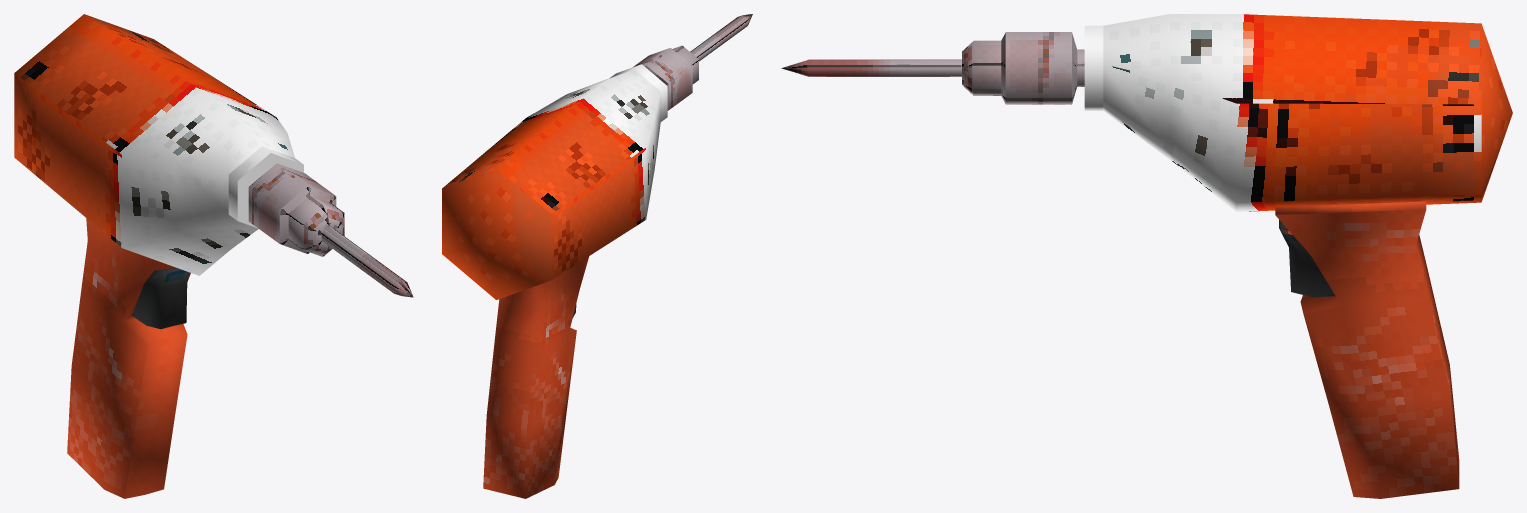
File: FURADEIRA_UNWRAPPED-TEXTURED.fbx
The picture shows the model from 3 angles, left to right: view 1: azimuth 30°, elevation 25°; view 2: azimuth 150°, elevation 25°; view 3: azimuth 270°, elevation 25°; orthographic projection. The views are drawn at different scales.
Parts seen in each view (by area): view 1: Body, Handle, Drill; view 2: Body, Handle, Drill; view 3: Body, Handle, Drill.
Part boxes in pixels (box(x1,y1,x2,y2)): Body: box(14, 14, 303, 275); Handle: box(67, 218, 190, 498); Drill: box(248, 163, 413, 297); Body: box(442, 64, 667, 299); Handle: box(483, 256, 588, 498); Drill: box(633, 14, 752, 110); Body: box(1084, 14, 1512, 211); Handle: box(1275, 201, 1459, 498); Drill: box(781, 32, 1084, 104).
Bounding box in the file's own units: 118 × 327 × 458.
3 materials, 3 textured.
